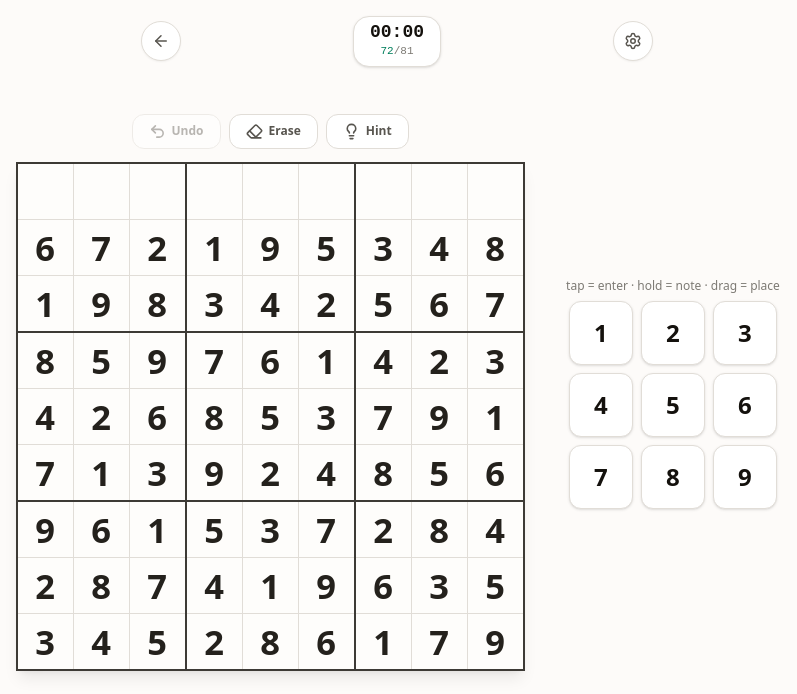
SoloGame numpad selection › places a pencil note and keeps the cell selected after a numpad hold
Click the cell named "Cell row 1 column 1, empty".
click(45, 192)  # box [18,164,73,219]
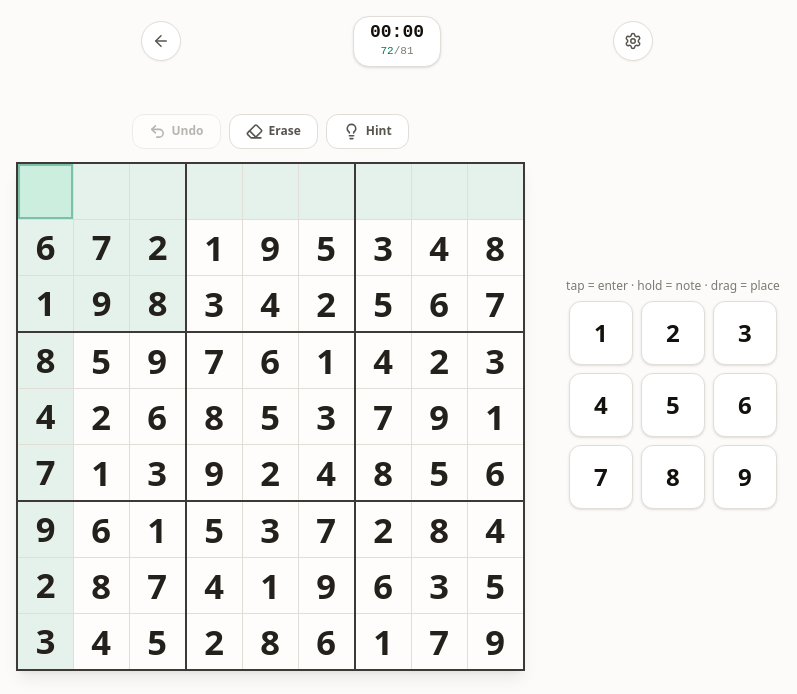
Press the mouse on the button "7" at (601, 477), box [569,445,633,509]
Wait 500 ms
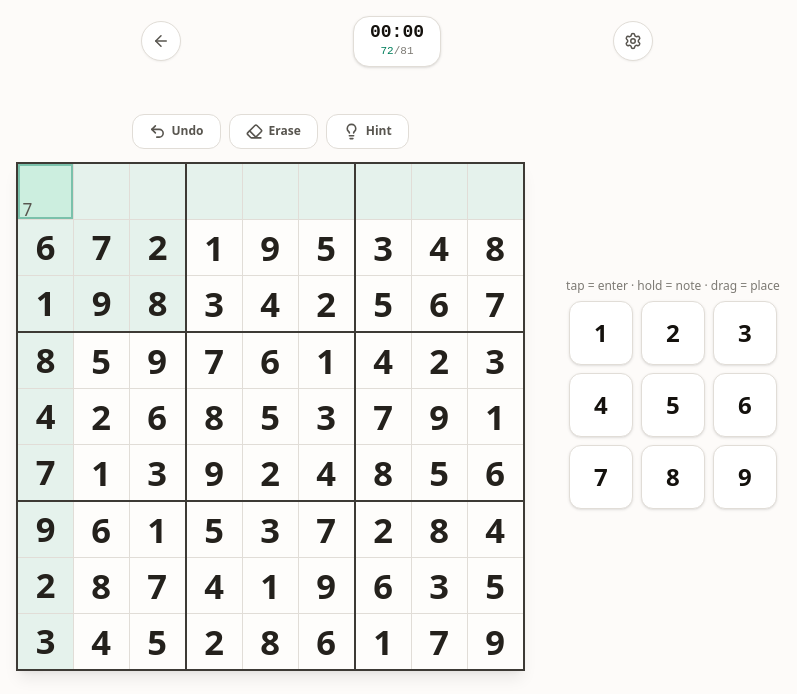
Check: the cell named "Cell row 1 column 1, empty" reads "7", box [22,198,32,221]
